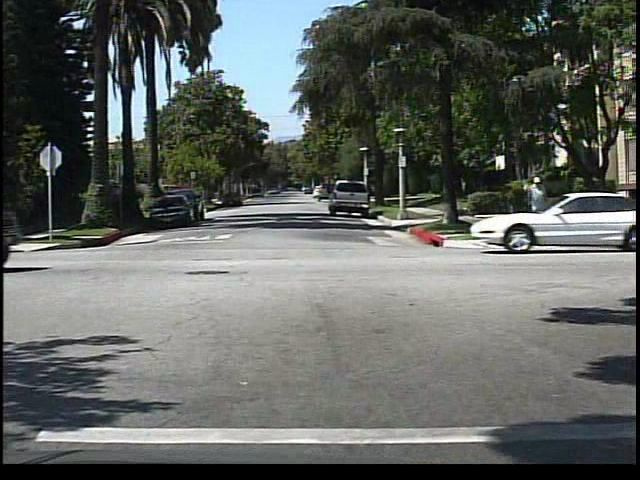person: (523, 173, 552, 213)
